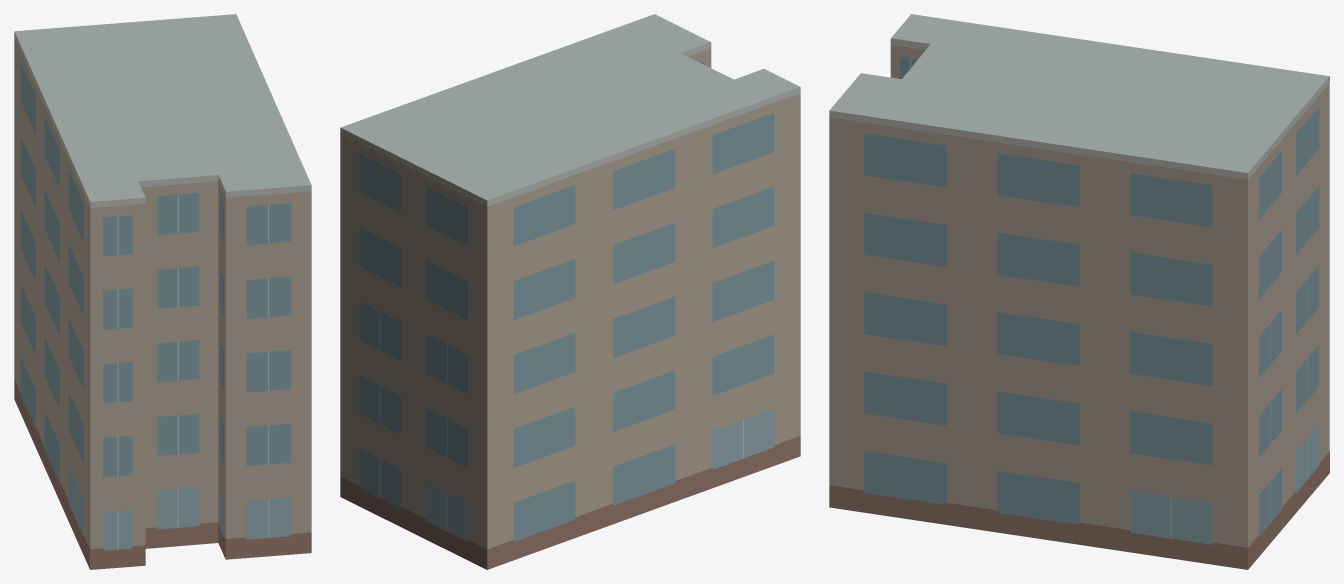
File: survey-upis-32885138.glb
The picture shows the model from 3 angles, left to right: view 1: azimuth 30°, elevation 25°; view 2: azimuth 150°, elevation 25°; view 3: azimuth 270°, elevation 25°; orthographic projection. The views are drawn at different scales.
Visible parts, largest first — view 1: survey-upis-32885138.tmp; view 2: survey-upis-32885138.tmp; view 3: survey-upis-32885138.tmp.
Part boxes in pixels (<box>): survey-upis-32885138.tmp: <box>14,14,311,569</box>; survey-upis-32885138.tmp: <box>340,14,800,569</box>; survey-upis-32885138.tmp: <box>829,14,1329,569</box>.
Bounding box in the file's own units: 12.39 × 14.4 × 16.47.
